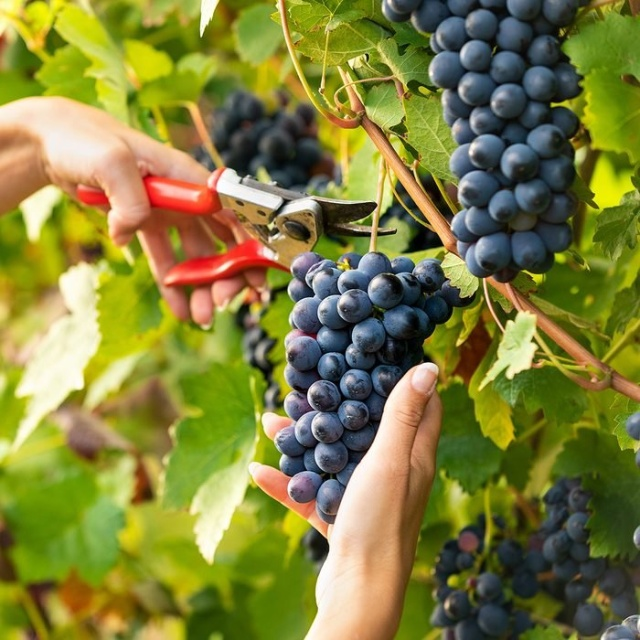grape: (277, 248, 474, 529)
